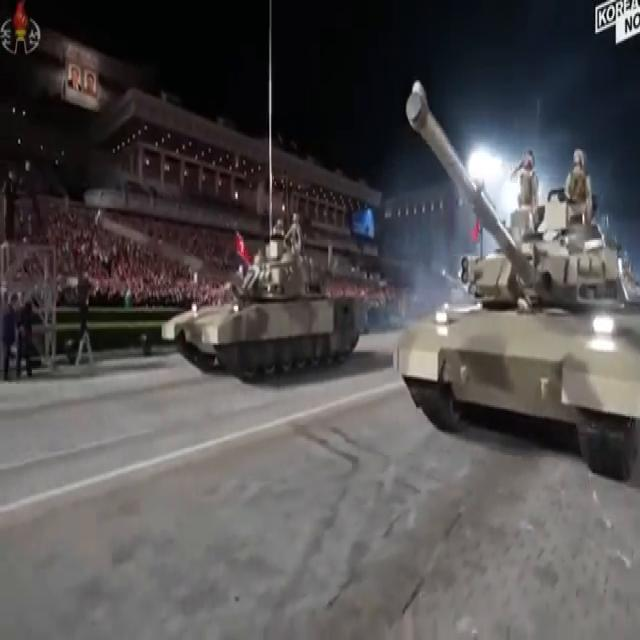north tank: (380, 62, 640, 483), (153, 174, 373, 375)
